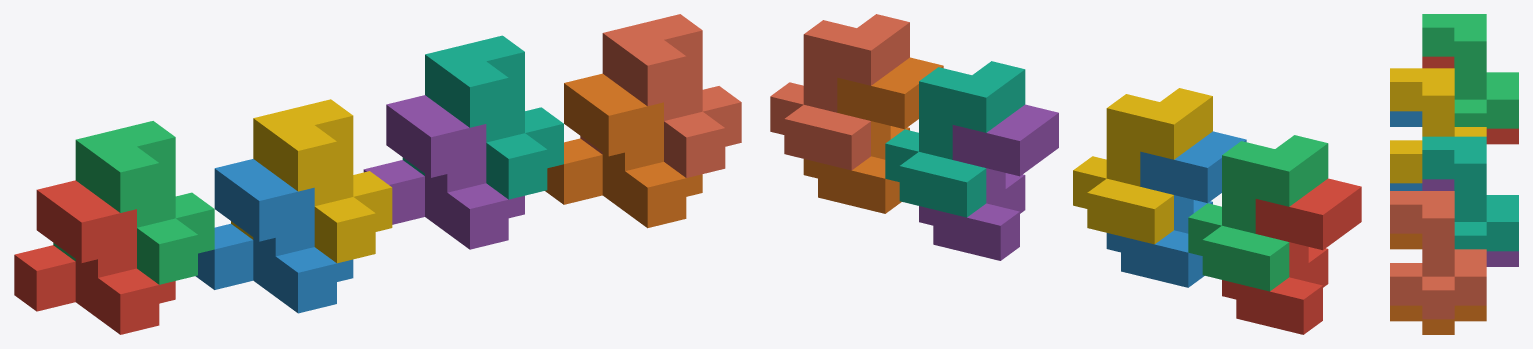
The model's file is tiling.obj.
3 renders of one model, left to right at view 1: azimuth 30°, elevation 25°; view 2: azimuth 150°, elevation 25°; view 3: azimuth 270°, elevation 25°, orthographic. The views are drawn at different scales.
Visible parts, largest first — view 1: copy_1_domain_1, copy_1_domain_2, copy_1_domain_6, copy_1_domain_5, copy_1_domain_4, copy_1_domain_8, copy_1_domain_3, copy_1_domain_7; view 2: copy_1_domain_7, copy_1_domain_3, copy_1_domain_8, copy_1_domain_4, copy_1_domain_5, copy_1_domain_1, copy_1_domain_6, copy_1_domain_2; view 3: copy_1_domain_8, copy_1_domain_7, copy_1_domain_3, copy_1_domain_4, copy_1_domain_6, copy_1_domain_1, copy_1_domain_5, copy_1_domain_2.
Boxes of the visible parts, x1,y1,x2,y2 form: copy_1_domain_1: (14,180,175,334); copy_1_domain_2: (195,159,353,313); copy_1_domain_6: (545,73,702,228); copy_1_domain_5: (363,95,524,249); copy_1_domain_4: (231,99,392,263); copy_1_domain_8: (580,14,741,177); copy_1_domain_3: (53,121,214,284); copy_1_domain_7: (402,35,563,199); copy_1_domain_7: (885,61,1025,217); copy_1_domain_3: (1188,135,1328,291); copy_1_domain_8: (770,14,909,170); copy_1_domain_4: (1073,88,1212,244); copy_1_domain_5: (919,104,1058,260); copy_1_domain_1: (1222,178,1361,334); copy_1_domain_6: (803,57,943,213); copy_1_domain_2: (1106,131,1246,287); copy_1_domain_8: (1390,191,1486,319); copy_1_domain_7: (1422,136,1518,251); copy_1_domain_3: (1422,14,1518,128); copy_1_domain_4: (1390,68,1486,183); copy_1_domain_6: (1390,233,1486,334); copy_1_domain_1: (1422,56,1518,144); copy_1_domain_5: (1422,179,1518,266); copy_1_domain_2: (1390,111,1422,190).
Size of the model in its own units: 17 by 4 by 4.
